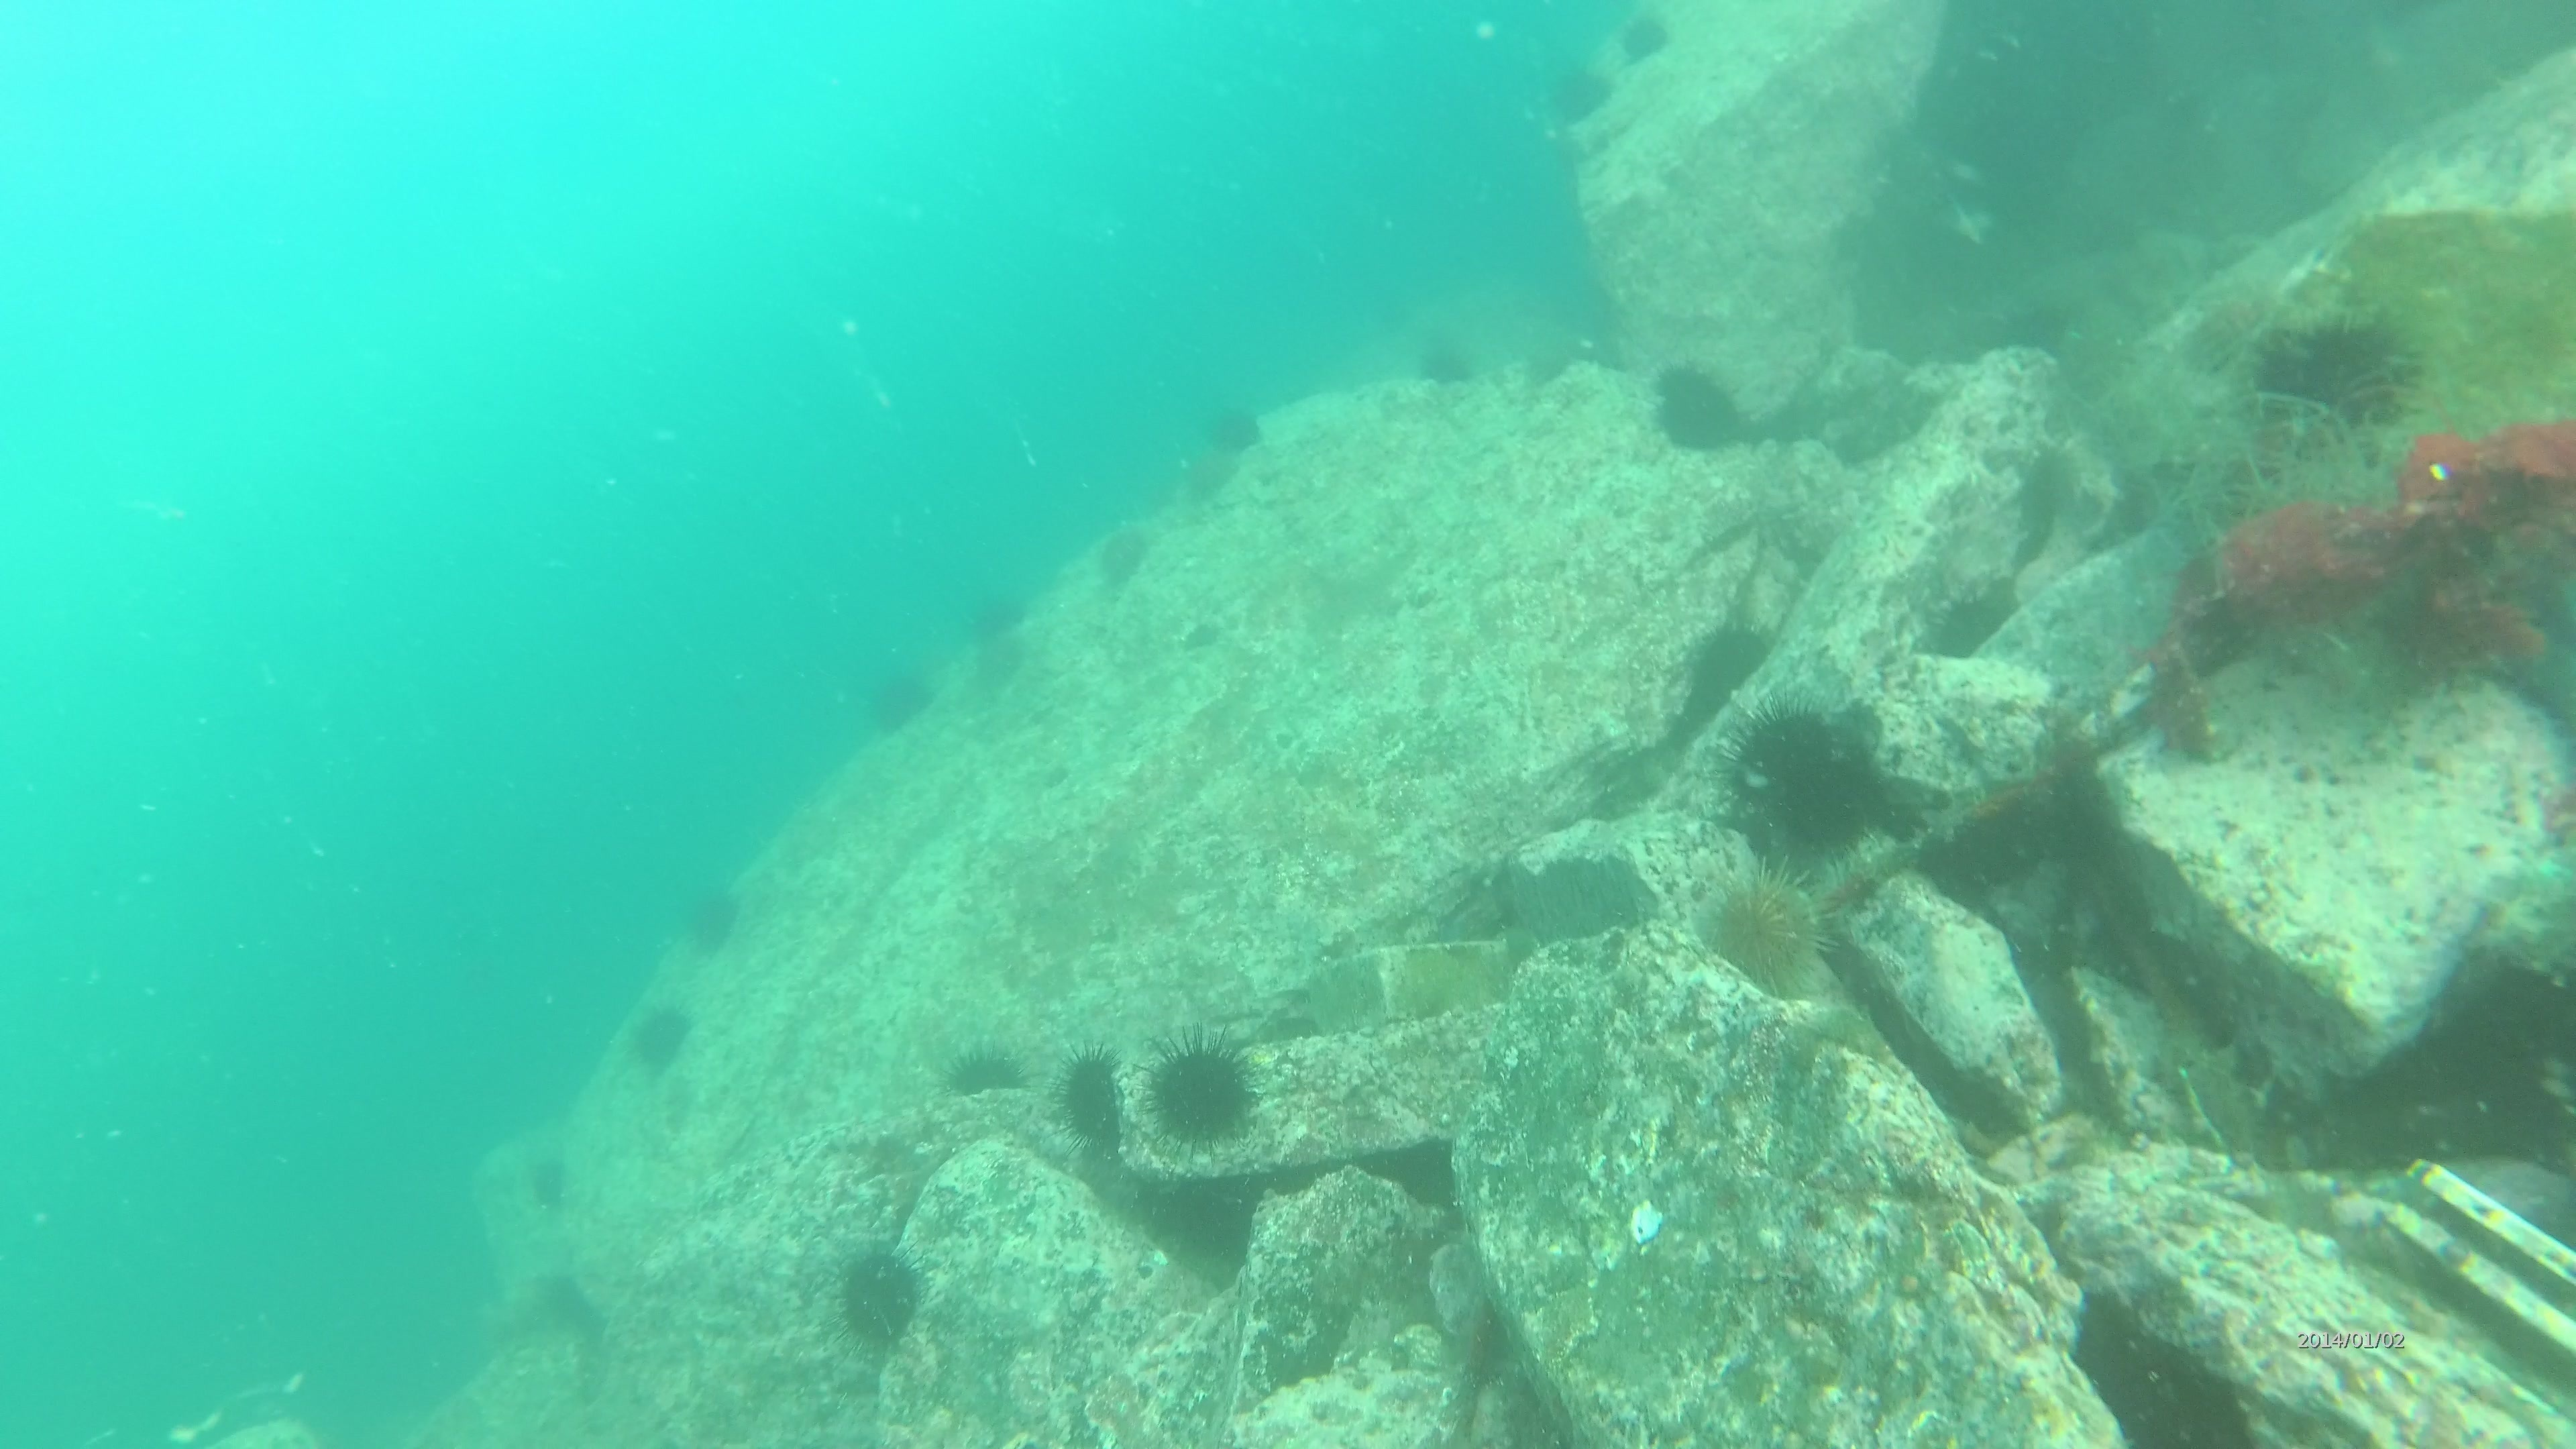echinus: (1720, 694, 1893, 865), (2249, 306, 2424, 425), (1698, 862, 1833, 996), (1141, 1028, 1265, 1154), (826, 1238, 931, 1355), (1675, 614, 1776, 722), (1051, 1040, 1132, 1159), (1645, 393, 1750, 458), (856, 658, 938, 738), (623, 996, 699, 1079), (1086, 513, 1161, 598), (674, 876, 747, 959), (1537, 57, 1617, 131), (939, 1035, 1026, 1102), (1191, 398, 1267, 467), (1651, 354, 1723, 414), (1412, 331, 1481, 393), (957, 586, 1026, 646), (1178, 449, 1240, 513), (1612, 9, 1675, 69), (522, 1146, 577, 1215), (973, 633, 1028, 692)
